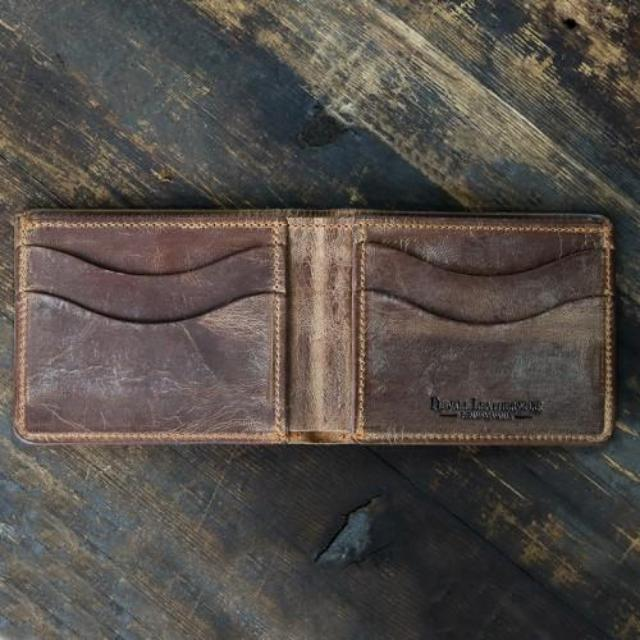wallet: (10, 205, 616, 452)
